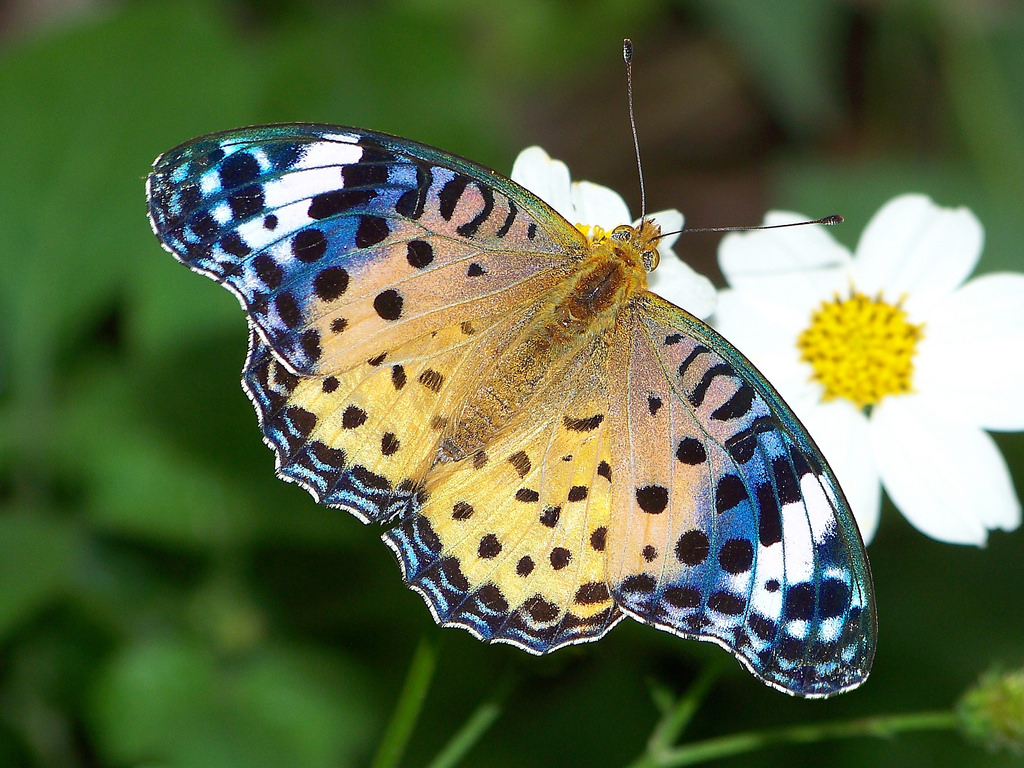Argyreus hyperbius: (147, 34, 883, 701)
butterfly: (149, 36, 885, 703)
